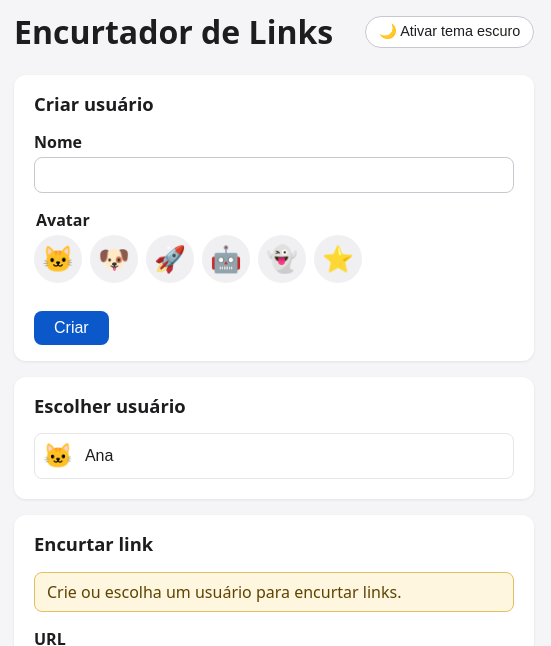
Scenario: tela de encurtar link › habilita ao escolher um usuário
The image size is (551, 646).
Click the button "🐱 Ana". click: (58, 456)
box: [34,433,514,479]
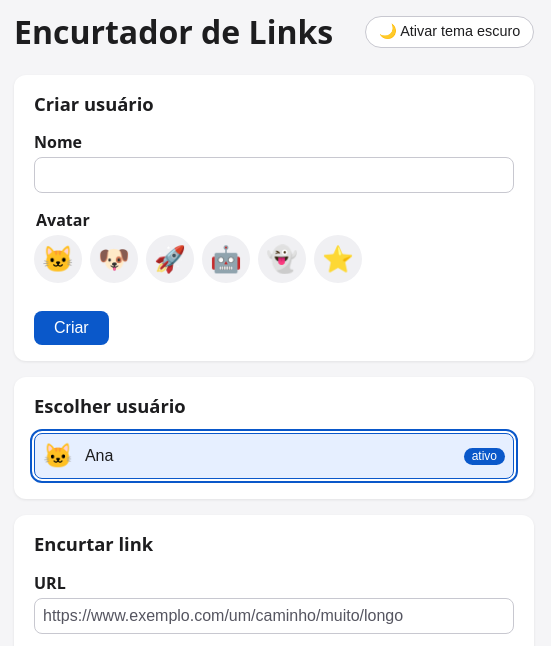
Expected: the field labelled "URL" is enabled, [34,598,514,634]
Expected: the text "Crie ou escolha um usuário para encurtar links." is gone
